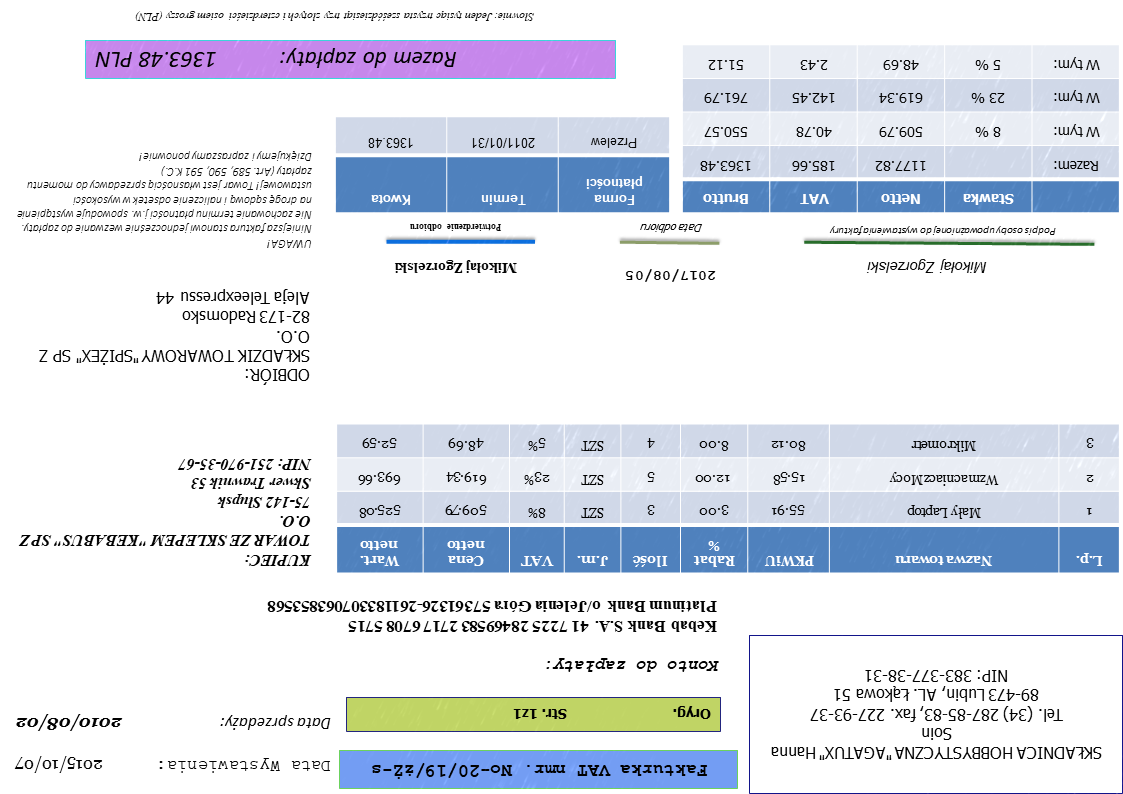Table: (335, 422, 1121, 574), (680, 45, 1122, 214), (334, 114, 672, 215)
TextBox: (11, 453, 315, 572), (768, 663, 1105, 764), (16, 148, 315, 251), (35, 284, 313, 389), (264, 597, 721, 637), (93, 45, 460, 73), (368, 760, 711, 782), (132, 8, 537, 26), (511, 702, 714, 725), (542, 655, 723, 677), (157, 754, 333, 776), (826, 225, 1059, 239), (392, 257, 522, 278), (14, 710, 125, 734), (862, 257, 989, 277), (219, 712, 334, 733), (624, 264, 720, 287), (13, 753, 106, 776), (408, 220, 506, 235), (637, 220, 705, 236)
